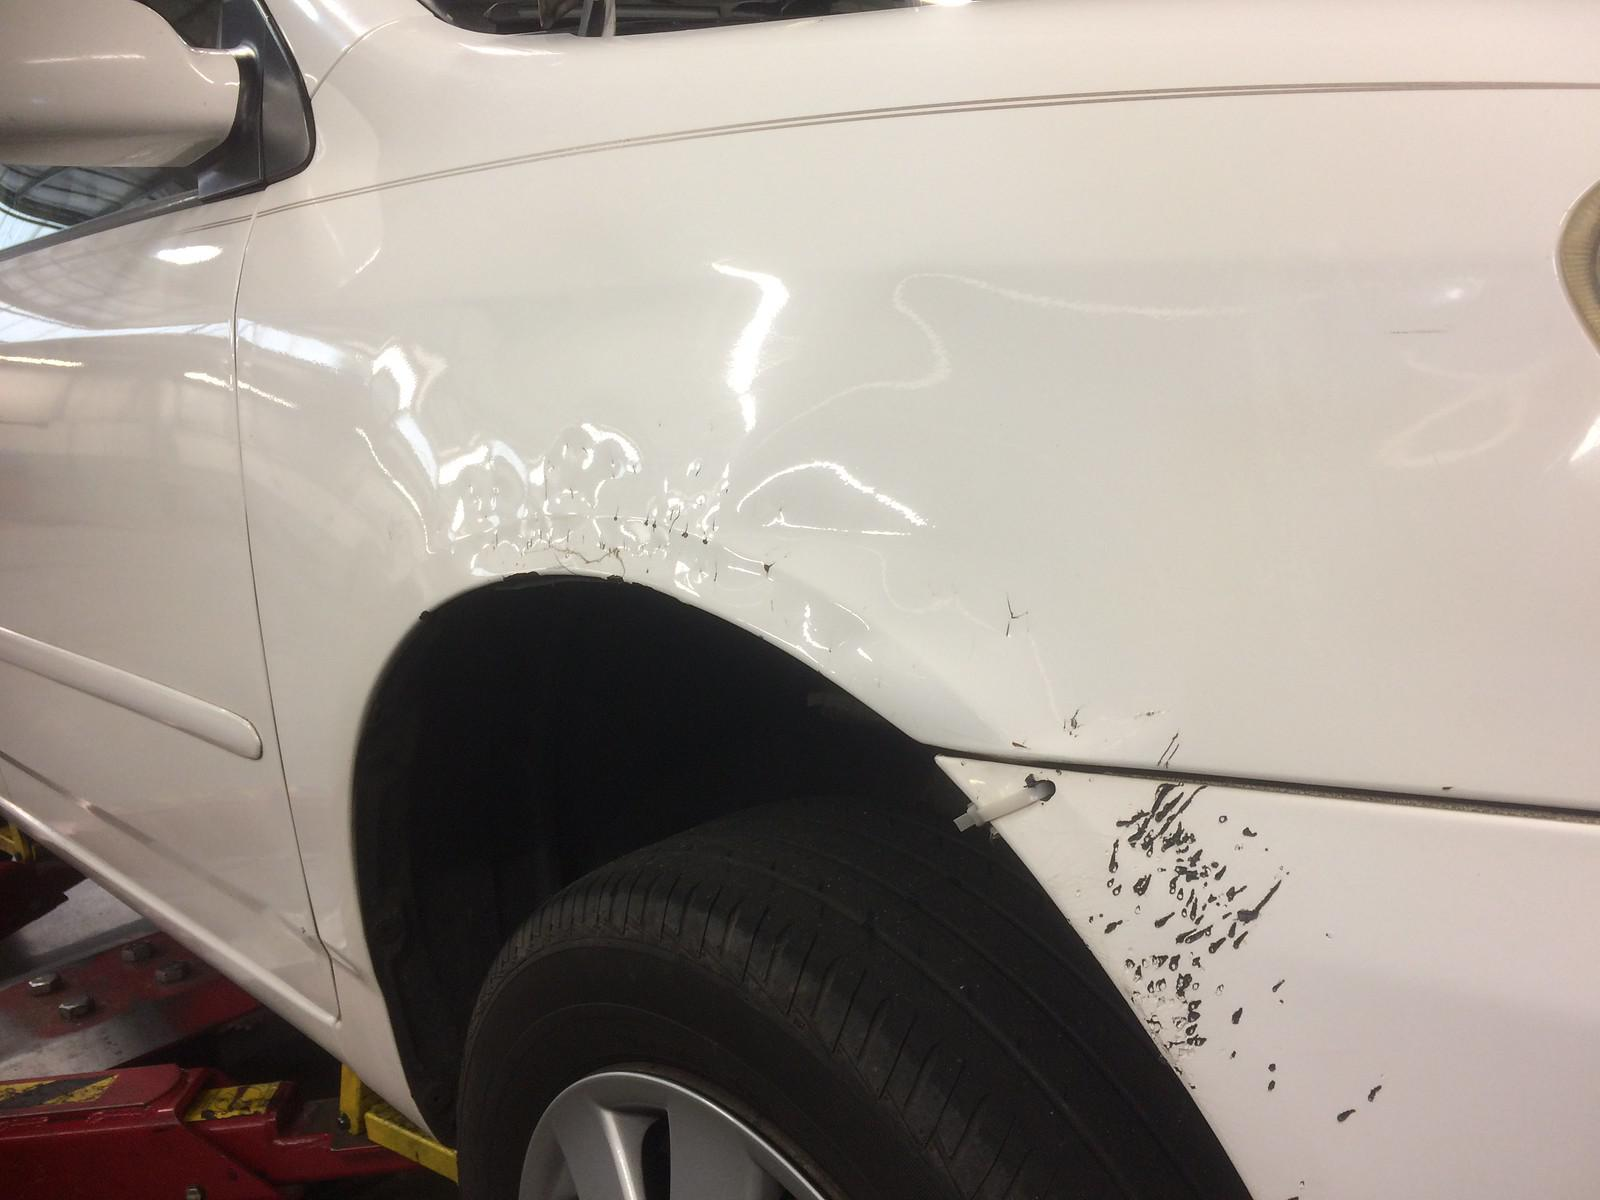fender-dent: (275, 217, 1599, 821)
